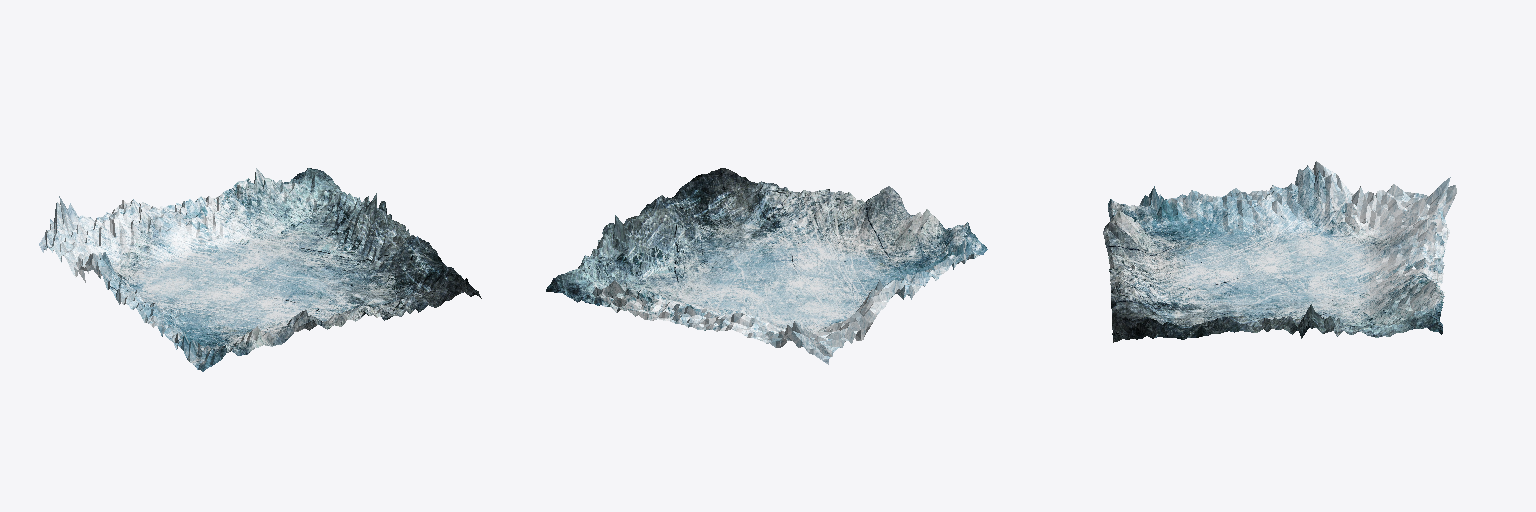
3 views of the same model, side by side, from view 1: azimuth 30°, elevation 25°; view 2: azimuth 150°, elevation 25°; view 3: azimuth 270°, elevation 25° (orthographic).
Bounding box in the file's own units: 21.03 × 3.42 × 21.94.
1 materials, 1 textured.